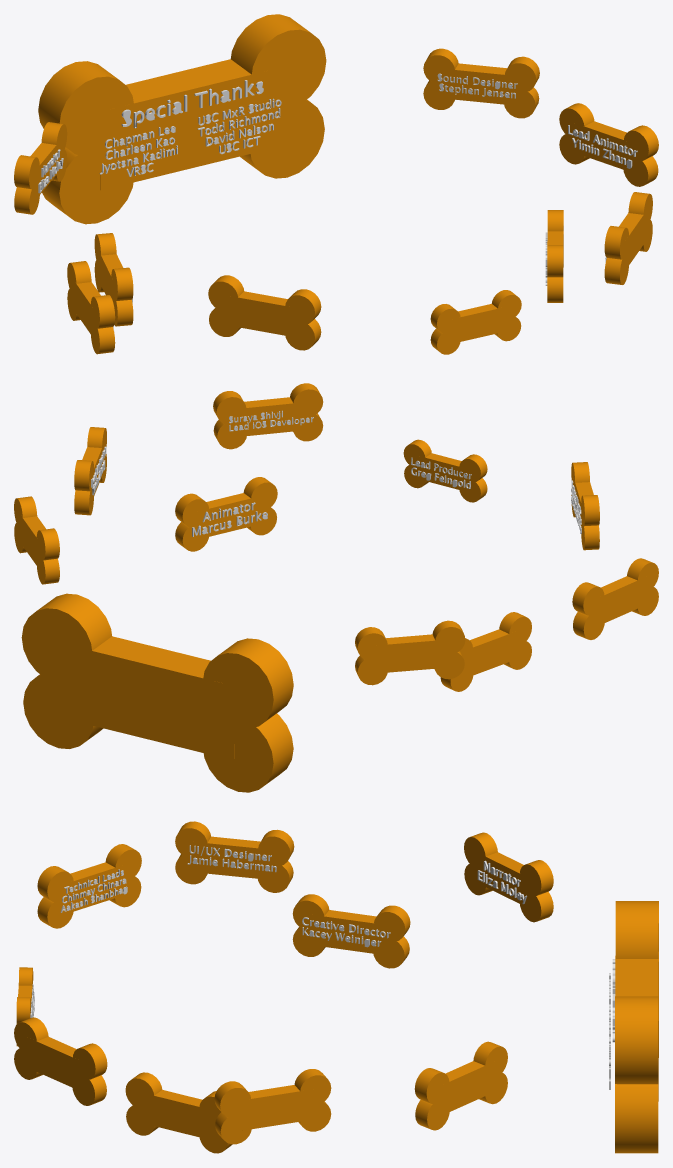
Rendered from ARnold Credits.fbx.
3 renders of one model, top to bottom at view 1: azimuth 30°, elevation 25°; view 2: azimuth 150°, elevation 25°; view 3: azimuth 270°, elevation 25°, orthographic. The views are drawn at different scales.
Visible parts, largest first — view 1: SpecialThanksBone, StephenBone (×2), CABone, YiminBone, Gregbone, pasted__pasted__YiminBone, pasted__YiminBone, KaceyBone, SpecialThanksType2, MarcusBone, SpecialThanksType1, SpecialThanksHeadlineType (+2 smaller); view 2: SpecialThanksBone, StephenBone (×2), pasted__pasted__YiminBone, MarcusBone, pasted__YiminBone, KaceyBone, Gregbone, YiminBone, CABone, MarcusType, GregText, typeMesh3; view 3: SpecialThanksBone, StephenBone (×2), YiminBone, pasted__YiminBone, KaceyBone, pasted__pasted__YiminBone, CABone, MarcusBone, Chinmay_Aakash, pasted__typeMesh2, typeMesh2, Gregbone (+1 smaller).
Boxes of the visible parts, x1=… form: SpecialThanksBone: x1=38, y1=14, x2=326, y2=224; StephenBone (×2): x1=14, y1=48, x2=539, y2=214; CABone: x1=208, y1=275, x2=321, y2=350; YiminBone: x1=559, y1=103, x2=658, y2=186; Gregbone: x1=430, y1=290, x2=521, y2=354; pasted__pasted__YiminBone: x1=604, y1=192, x2=652, y2=284; pasted__YiminBone: x1=67, y1=261, x2=115, y2=354; KaceyBone: x1=94, y1=233, x2=133, y2=326; SpecialThanksType2: x1=197, y1=98, x2=281, y2=154; MarcusBone: x1=547, y1=210, x2=563, y2=302; SpecialThanksType1: x1=99, y1=126, x2=177, y2=176; SpecialThanksHeadlineType: x1=121, y1=80, x2=263, y2=128; SpecialThanksBone: x1=21, y1=593, x2=293, y2=792; StephenBone (×2): x1=14, y1=496, x2=465, y2=685; pasted__pasted__YiminBone: x1=213, y1=383, x2=323, y2=449; MarcusBone: x1=175, y1=477, x2=277, y2=551; pasted__YiminBone: x1=572, y1=558, x2=658, y2=639; KaceyBone: x1=440, y1=612, x2=531, y2=691; Gregbone: x1=403, y1=439, x2=487, y2=502; YiminBone: x1=74, y1=427, x2=106, y2=515; CABone: x1=571, y1=462, x2=599, y2=550; MarcusType: x1=192, y1=502, x2=267, y2=536; GregText: x1=411, y1=457, x2=471, y2=488; typeMesh3: x1=229, y1=410, x2=313, y2=431; SpecialThanksBone: x1=615, y1=901, x2=658, y2=1153; StephenBone (×2): x1=414, y1=832, x2=553, y2=1130; YiminBone: x1=214, y1=1069, x2=331, y2=1144; pasted__YiminBone: x1=175, y1=821, x2=294, y2=892; KaceyBone: x1=292, y1=894, x2=410, y2=968; pasted__pasted__YiminBone: x1=14, y1=1017, x2=107, y2=1105; CABone: x1=37, y1=844, x2=141, y2=928; MarcusBone: x1=125, y1=1072, x2=232, y2=1153; Chinmay_Aakash: x1=60, y1=869, x2=127, y2=912; pasted__typeMesh2: x1=302, y1=917, x2=390, y2=947; typeMesh2: x1=187, y1=845, x2=276, y2=872; Gregbone: x1=16, y1=967, x2=33, y2=1046.
Size of the model in its own units: 75.84 by 18.57 by 71.49.
